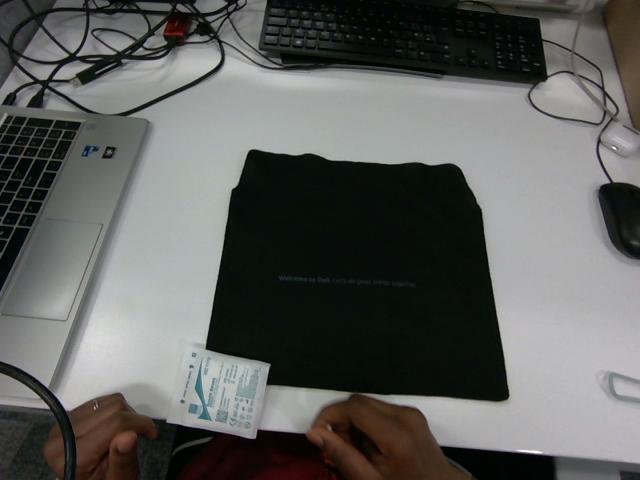gauze: (167, 346, 269, 438)
